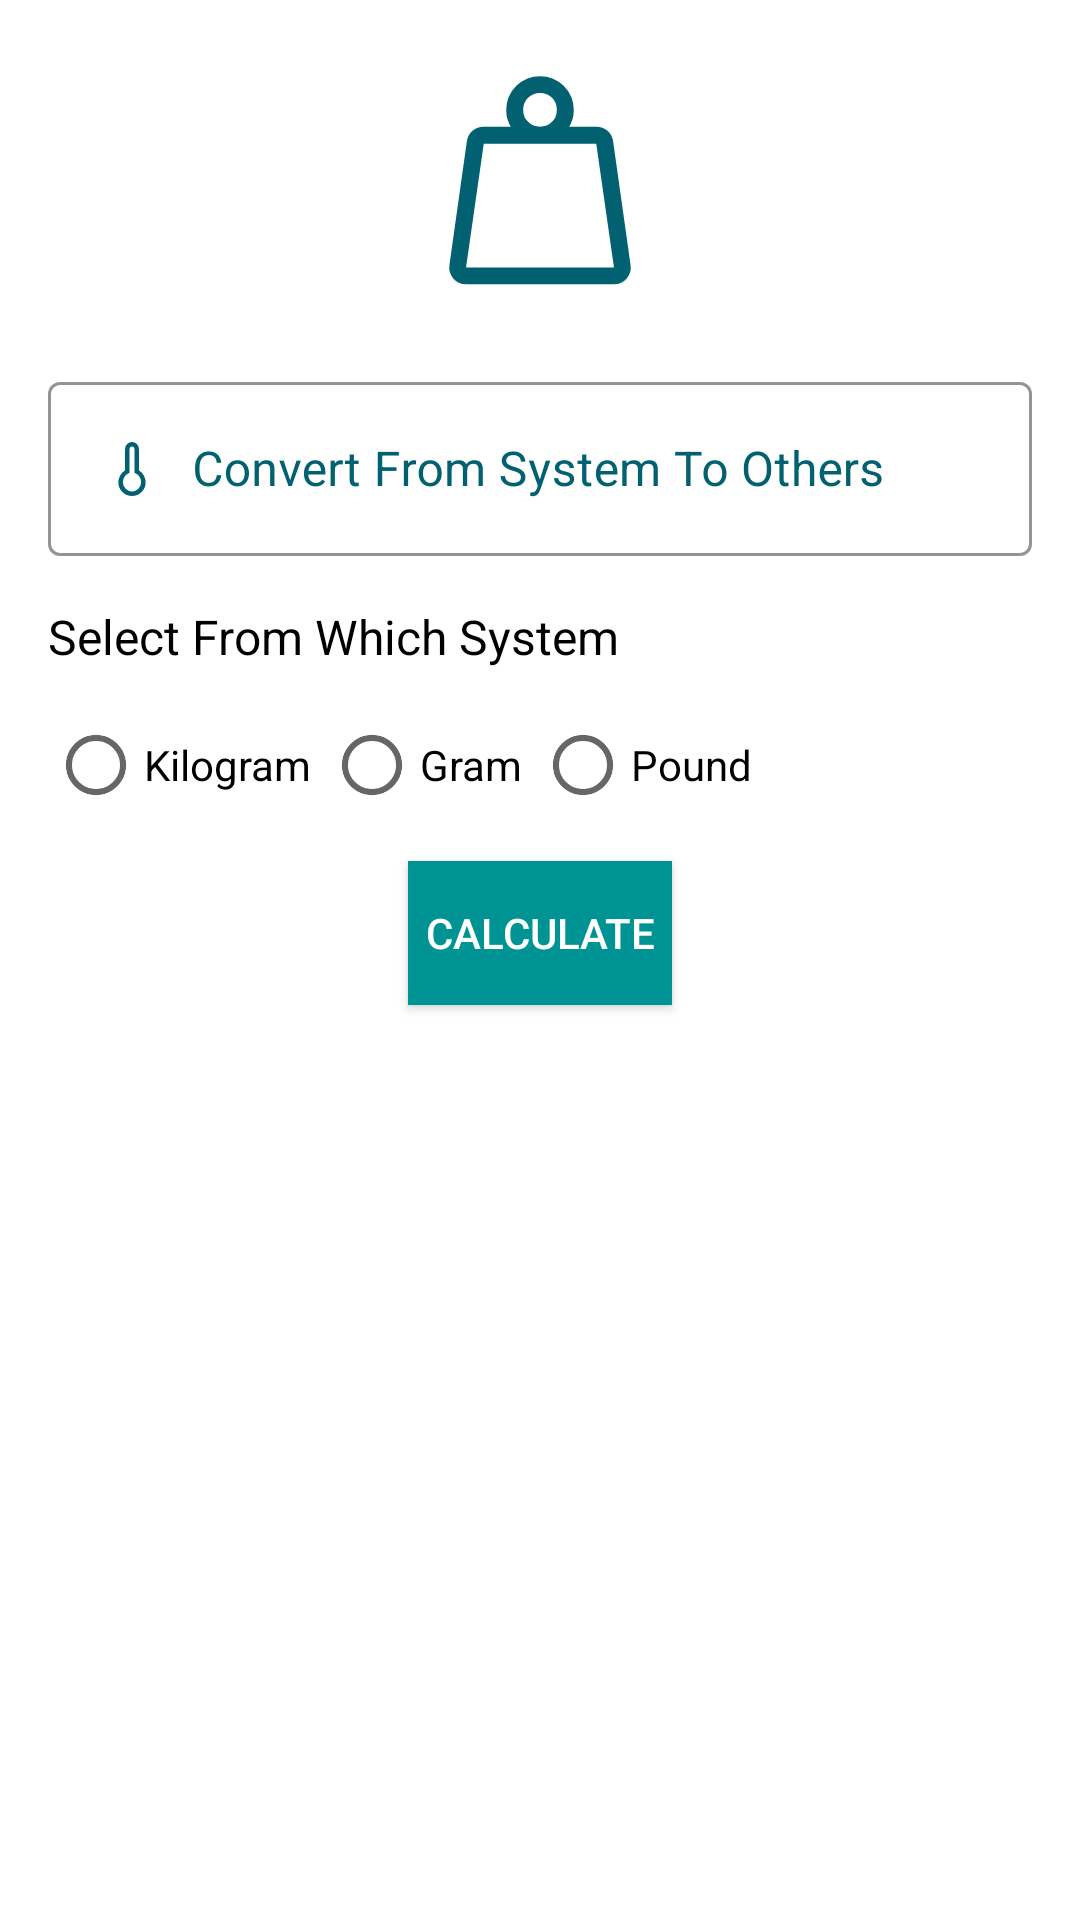

Where icons sit on this 1080×1920 app screen, as (x1,y1,x2,y2):
weight: (449,76,631,285)
